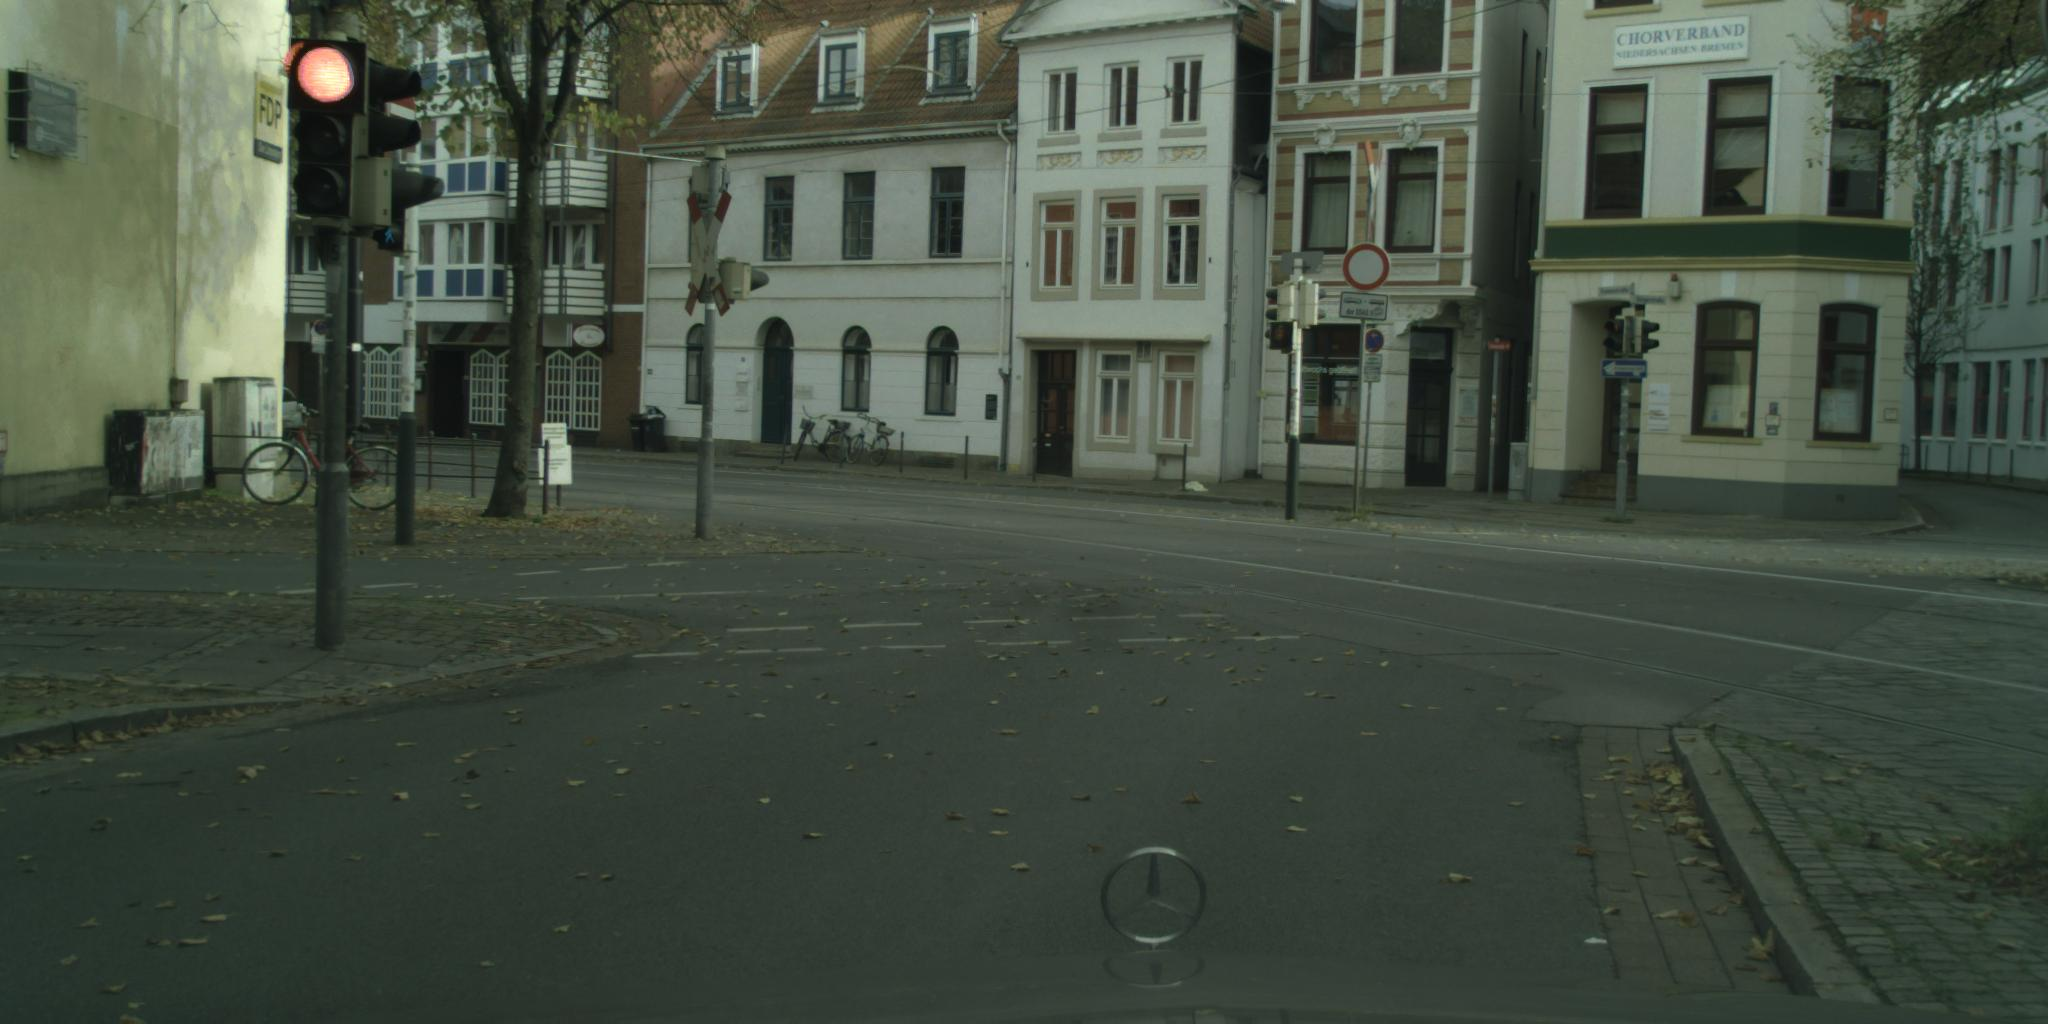bicycle: (243, 410, 404, 512), (794, 406, 853, 466), (841, 414, 897, 469)
car: (280, 389, 308, 441)
